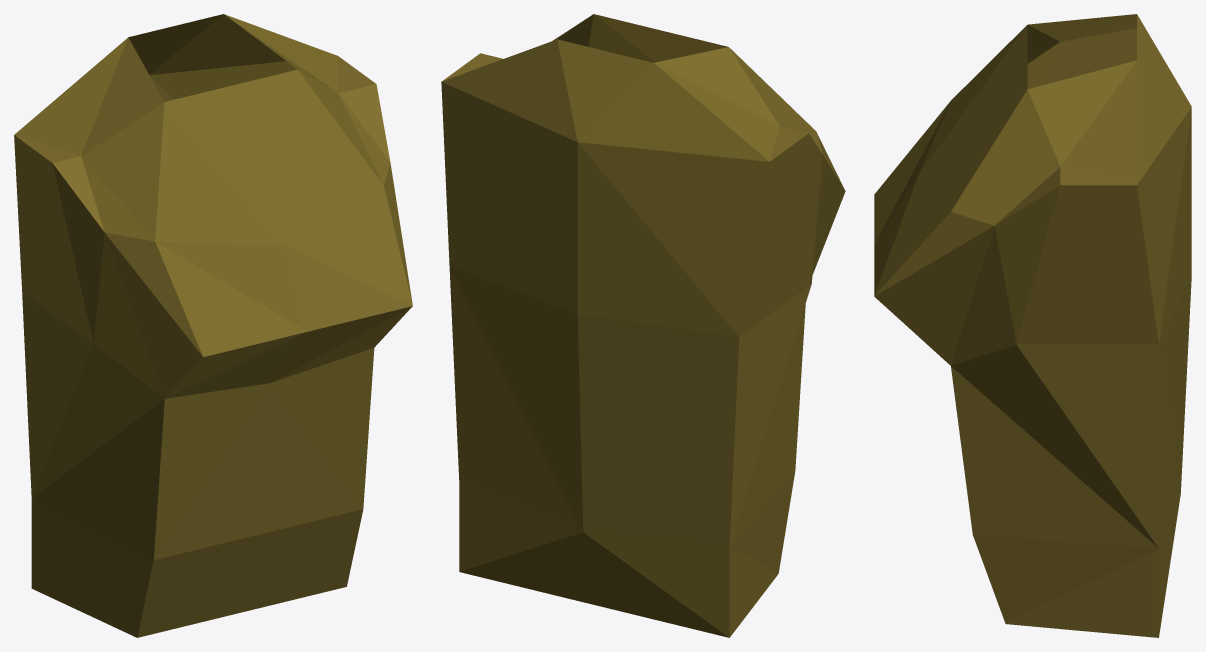
The model's file is model_471_idk.obj.
3 renders of one model, left to right at view 1: azimuth 30°, elevation 25°; view 2: azimuth 150°, elevation 25°; view 3: azimuth 270°, elevation 25°, orthographic.
Visible parts, largest first — view 1: 471; view 2: 471; view 3: 471.
Part boxes in pixels (x1=…): 471: x1=14, y1=14, x2=412, y2=637; 471: x1=441, y1=14, x2=845, y2=637; 471: x1=874, y1=14, x2=1191, y2=637.
Size of the model in its own units: 34 by 54 by 29.
